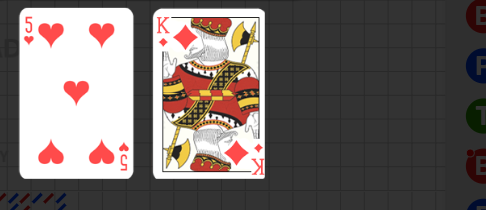5H: (117, 141, 130, 172)
KD: (252, 142, 265, 176)
